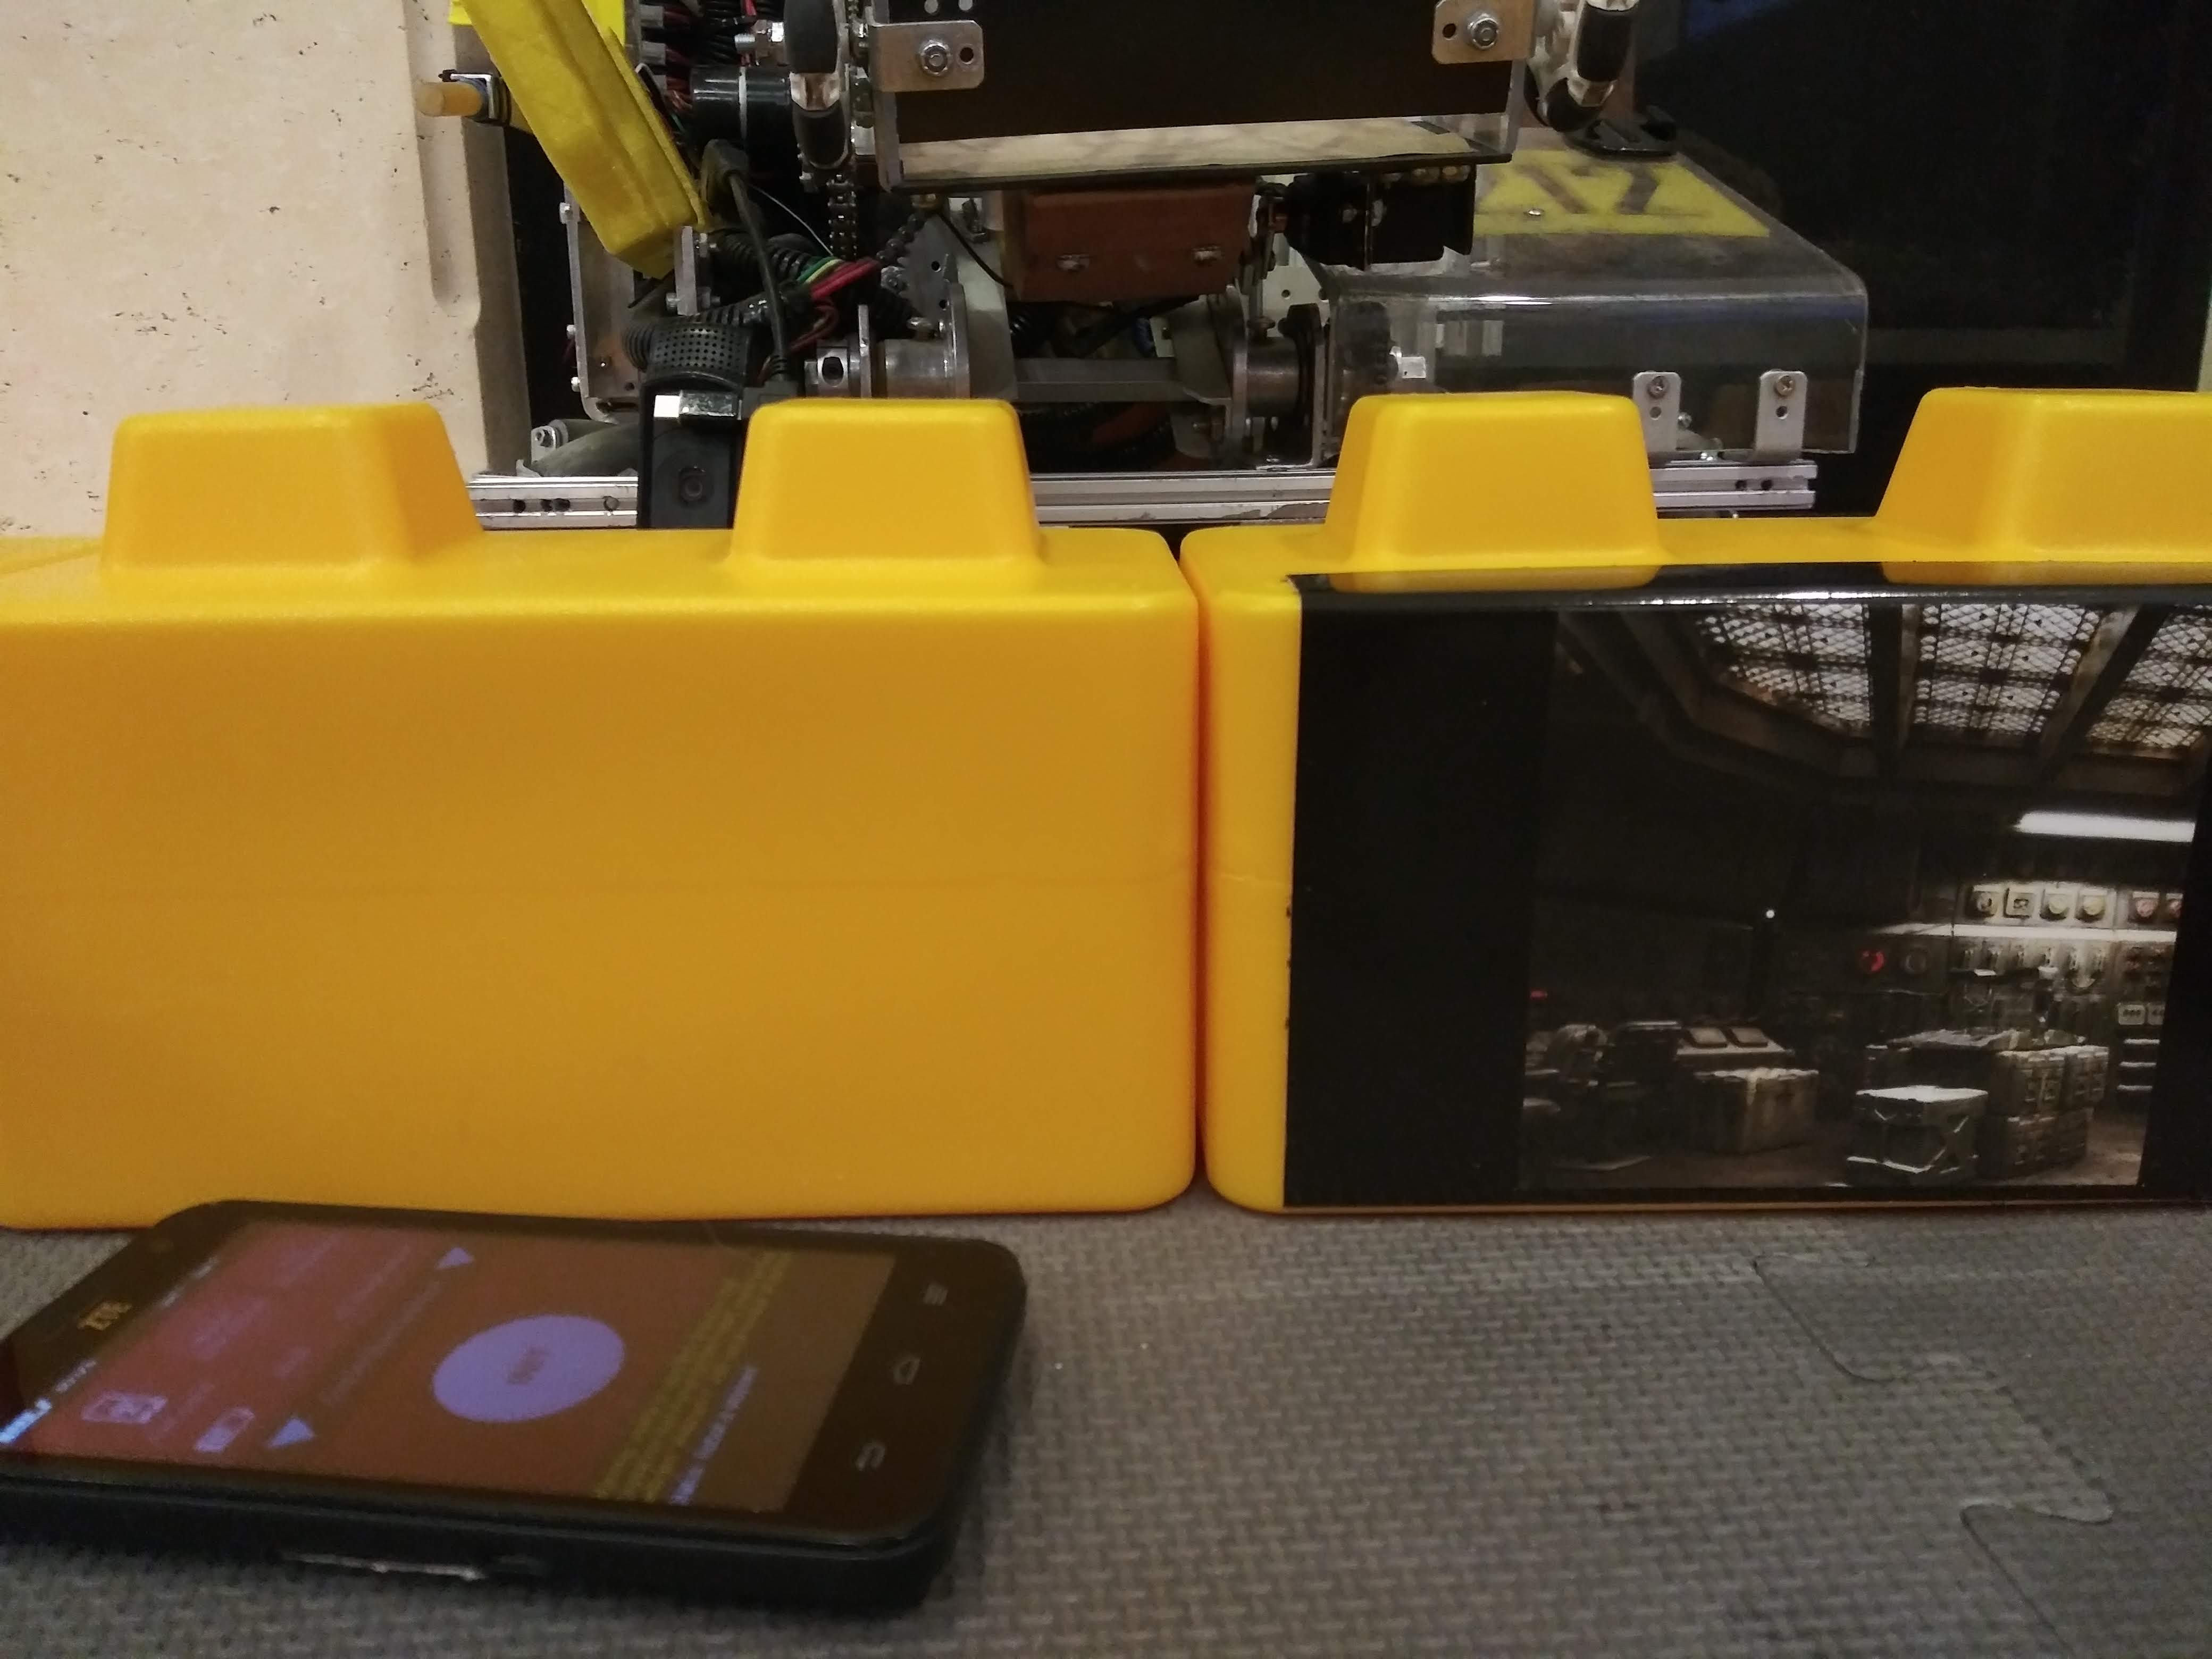skystone: (1198, 477, 2179, 1215)
stone: (26, 474, 1162, 1222)
